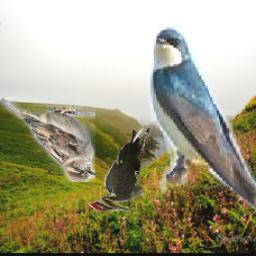Sparrow: (1, 99, 97, 183)
Swallow: (145, 19, 256, 216)
Woodpecker: (89, 127, 149, 213)
